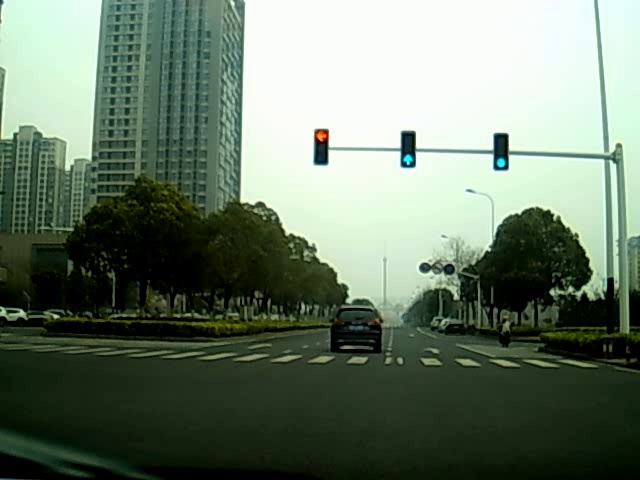Traffic_Light_go: (401, 134, 414, 168), (495, 136, 508, 170)
Traffic_Light_stop: (313, 129, 329, 161)
